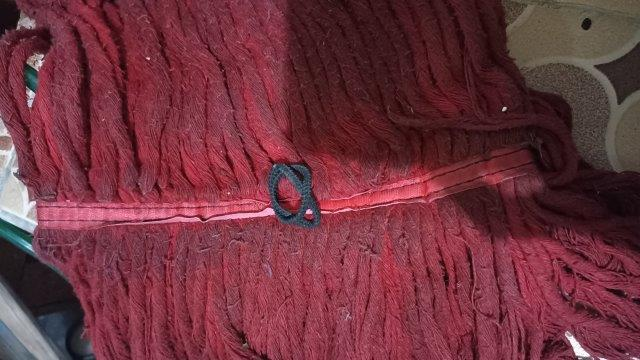karet: (267, 162, 321, 229)
